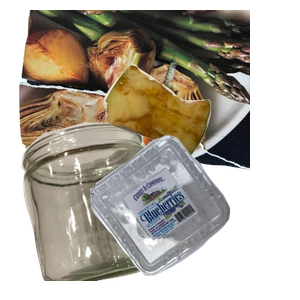glass: (19, 120, 184, 300)
paper: (16, 10, 256, 172)
plastic: (88, 133, 300, 300)
trash: (101, 62, 300, 217)
